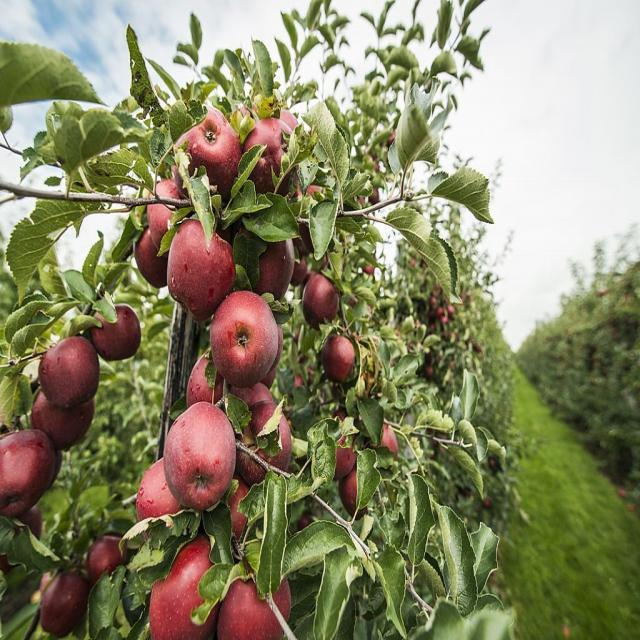Red Apple: (172, 409, 235, 504), (156, 538, 221, 630), (215, 294, 275, 386), (171, 214, 231, 305), (184, 110, 239, 201), (229, 565, 287, 640), (140, 455, 191, 538), (1, 428, 49, 505), (244, 406, 289, 484), (42, 334, 94, 401), (40, 390, 98, 449), (244, 230, 288, 301), (244, 117, 287, 184), (150, 175, 188, 242), (45, 574, 90, 630), (135, 221, 173, 284), (97, 304, 138, 360), (192, 346, 222, 414), (226, 476, 254, 535), (309, 271, 339, 326), (331, 425, 361, 478), (327, 334, 355, 384), (94, 530, 122, 576), (343, 463, 367, 506)
